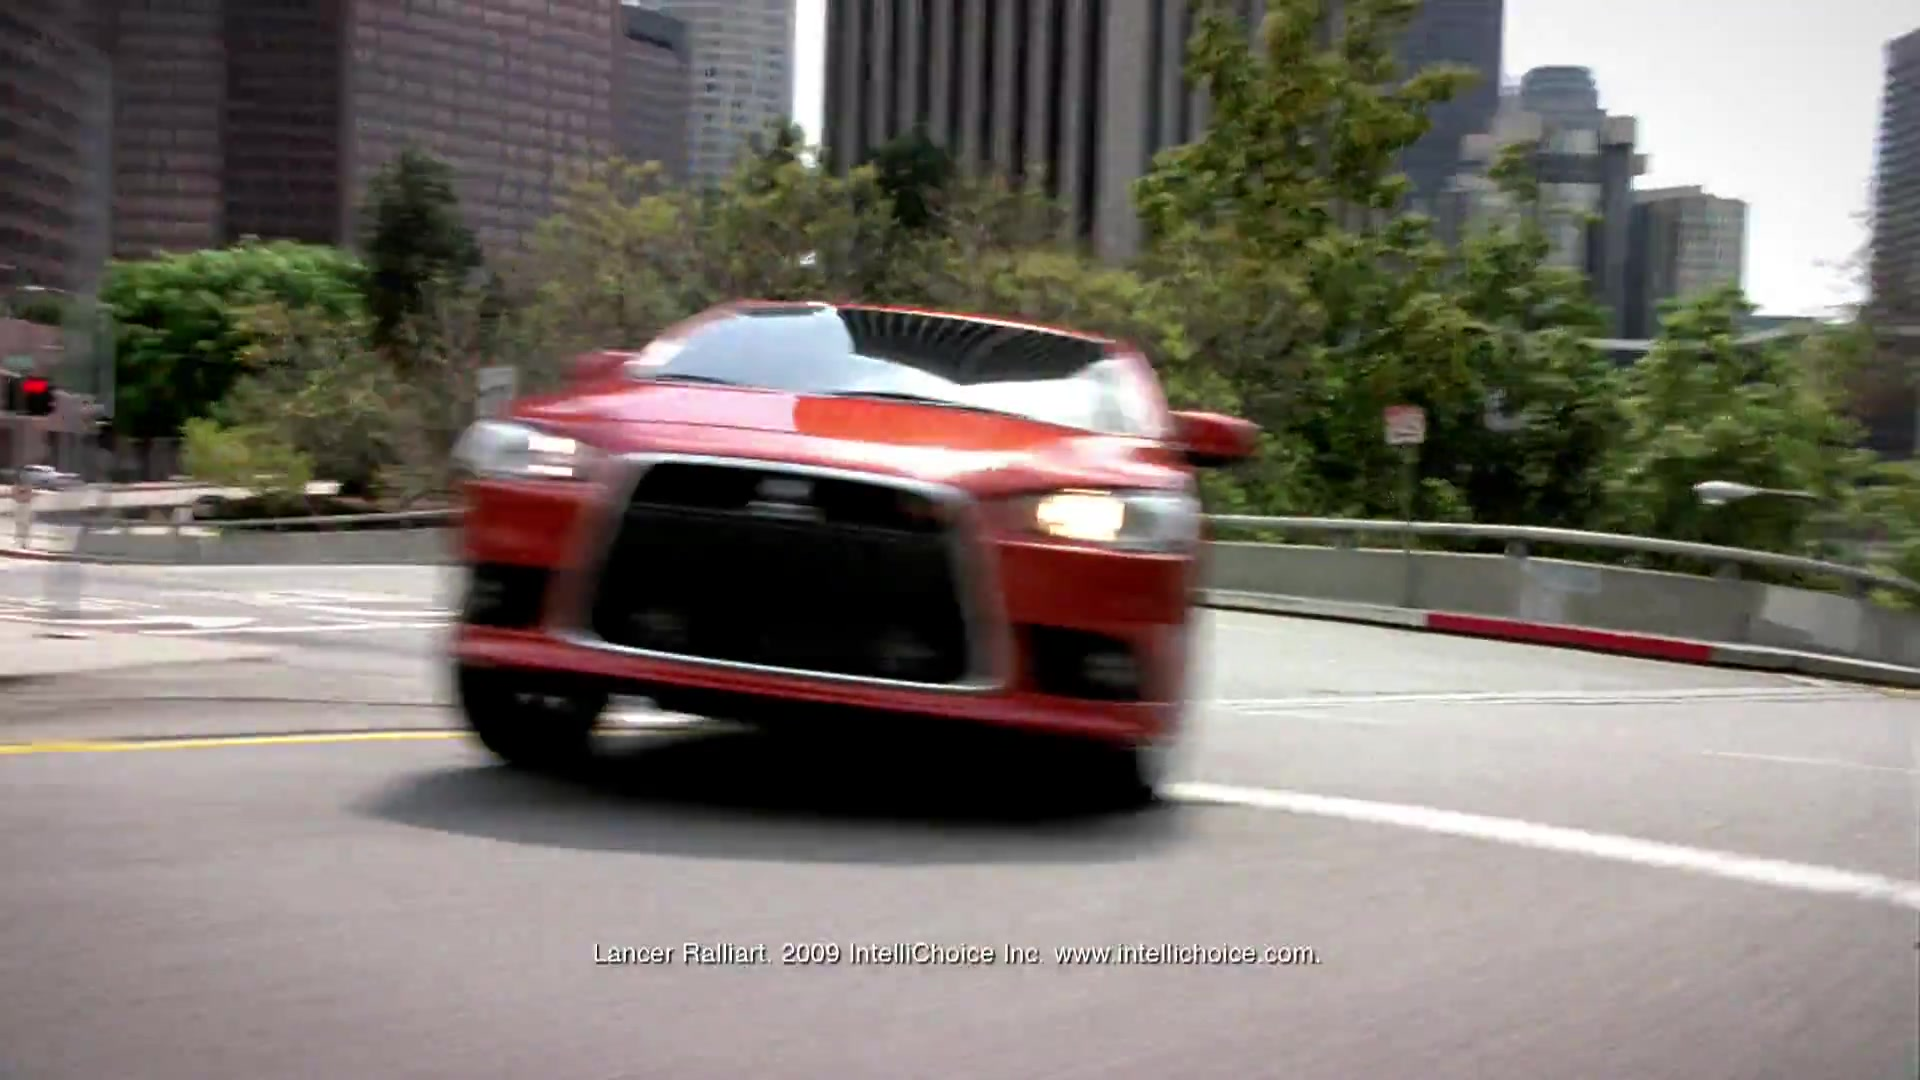car: (444, 261, 1265, 823)
